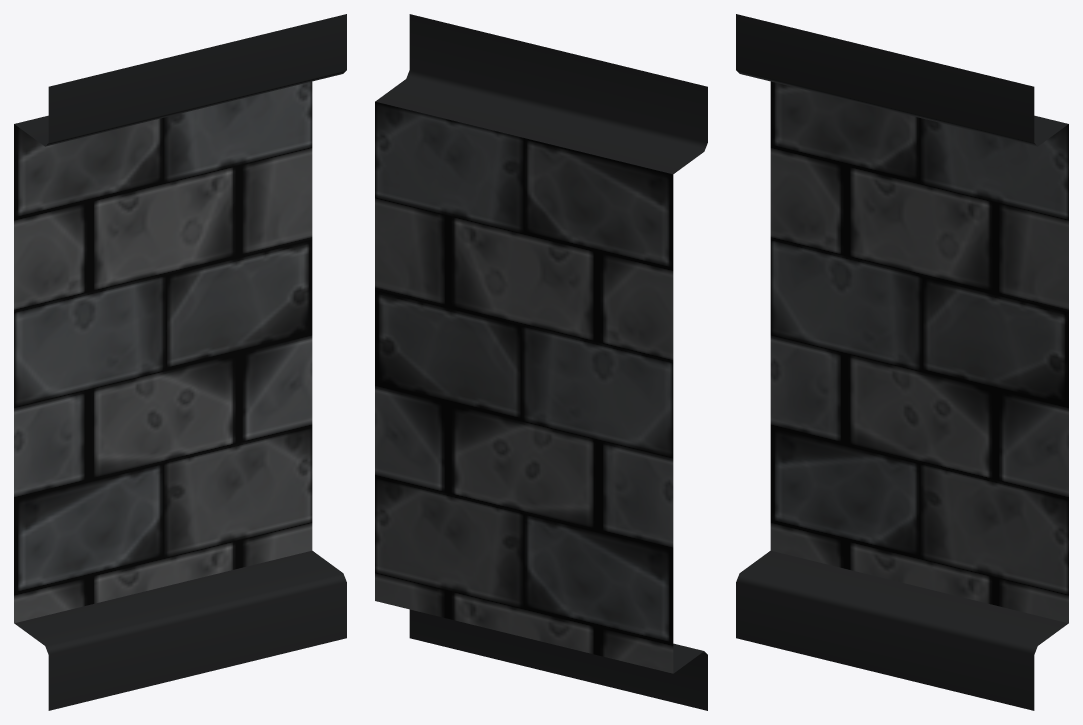
Rendered from M_Wall_Small_Half_Up.fbx.
3 views of the same model, side by side, from view 1: azimuth 30°, elevation 25°; view 2: azimuth 150°, elevation 25°; view 3: azimuth 330°, elevation 25° (orthographic).
Parts seen in each view (by area): view 1: Wall_Small_Half_Up; view 2: Wall_Small_Half_Up; view 3: Wall_Small_Half_Up.
Part boxes in pixels (x1,y1,x2,y2): Wall_Small_Half_Up: (14,14,346,710); Wall_Small_Half_Up: (375,14,707,710); Wall_Small_Half_Up: (736,14,1068,710).
Bounding box in the file's own units: 100 × 200 × 20.
